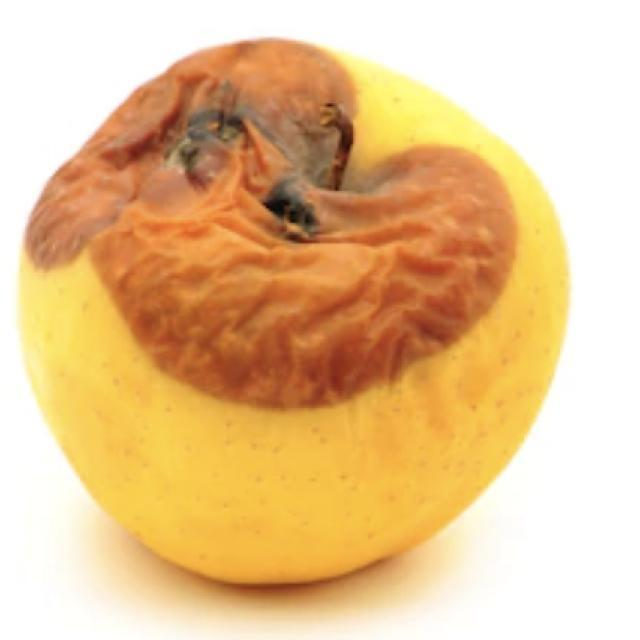Rotten: (55, 67, 555, 573)
